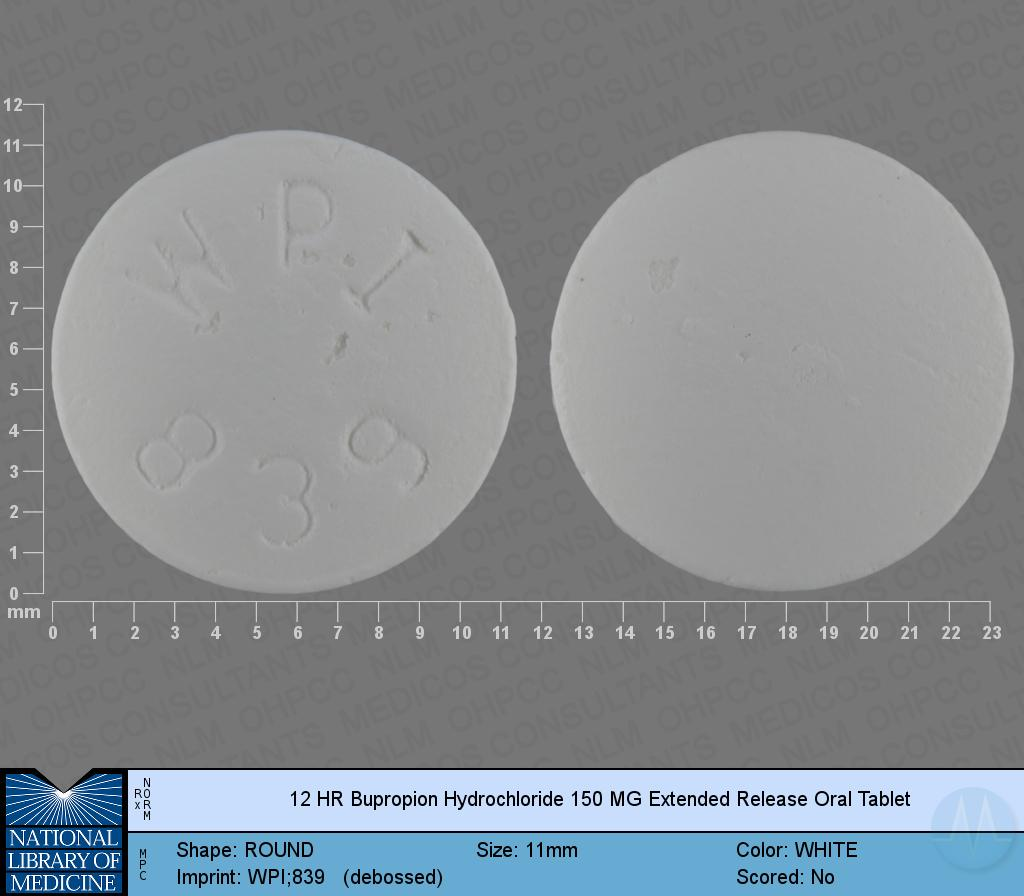Pill: (45, 120, 525, 602), (542, 122, 1024, 597)
